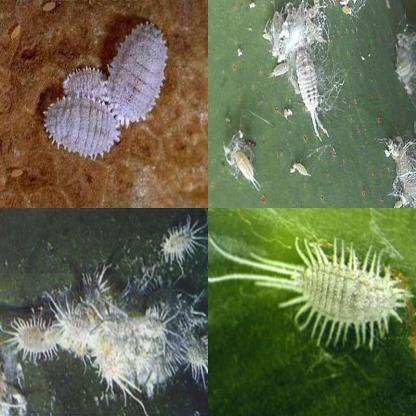mealy bug: (210, 247, 405, 336), (108, 26, 168, 127), (44, 95, 120, 155), (295, 53, 325, 142), (160, 221, 206, 262), (9, 322, 56, 354), (61, 70, 107, 97), (233, 152, 261, 189)
